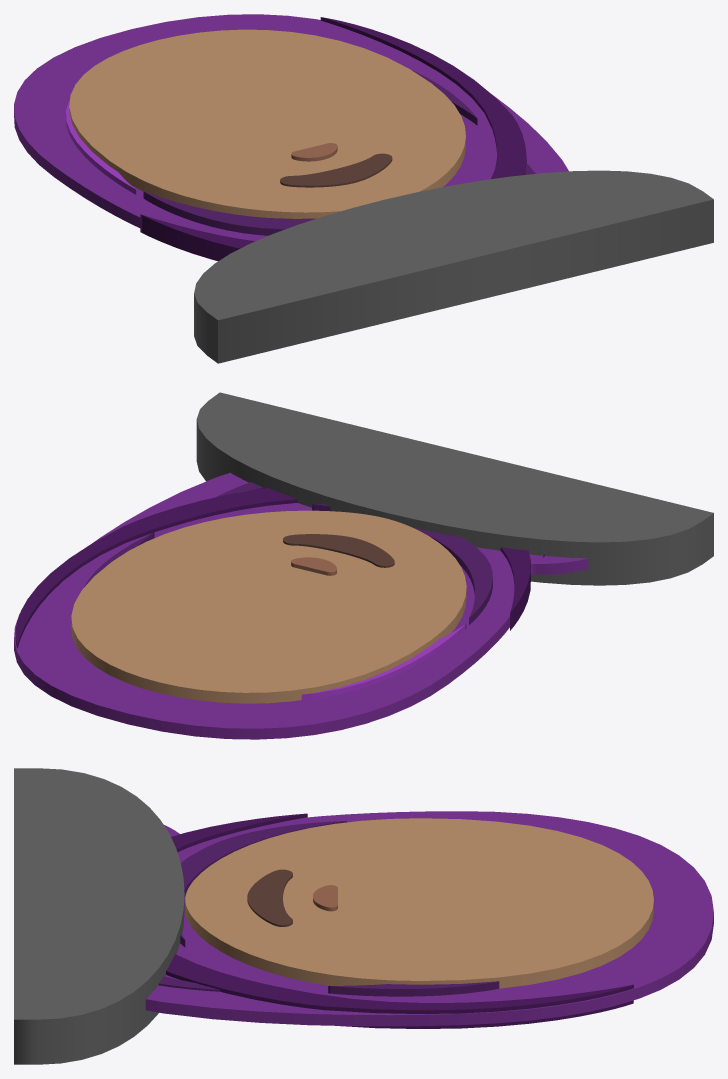
Rendered from emoji_u1f9d5_1f3fd.glb.
The picture shows the model from 3 angles, top to bottom: view 1: azimuth 30°, elevation 25°; view 2: azimuth 150°, elevation 25°; view 3: azimuth 270°, elevation 25°; orthographic projection. The views are drawn at different scales.
Visible parts, largest first — view 1: emoji_u1f9d5_1f3fd; view 2: emoji_u1f9d5_1f3fd; view 3: emoji_u1f9d5_1f3fd.
Boxes of the visible parts, x1=… form: emoji_u1f9d5_1f3fd: x1=14, y1=14, x2=713, y2=363; emoji_u1f9d5_1f3fd: x1=14, y1=392, x2=713, y2=739; emoji_u1f9d5_1f3fd: x1=14, y1=768, x2=713, y2=1064.
Bounding box in the file's own units: 0.0287 × 0.0024 × 0.0338.
